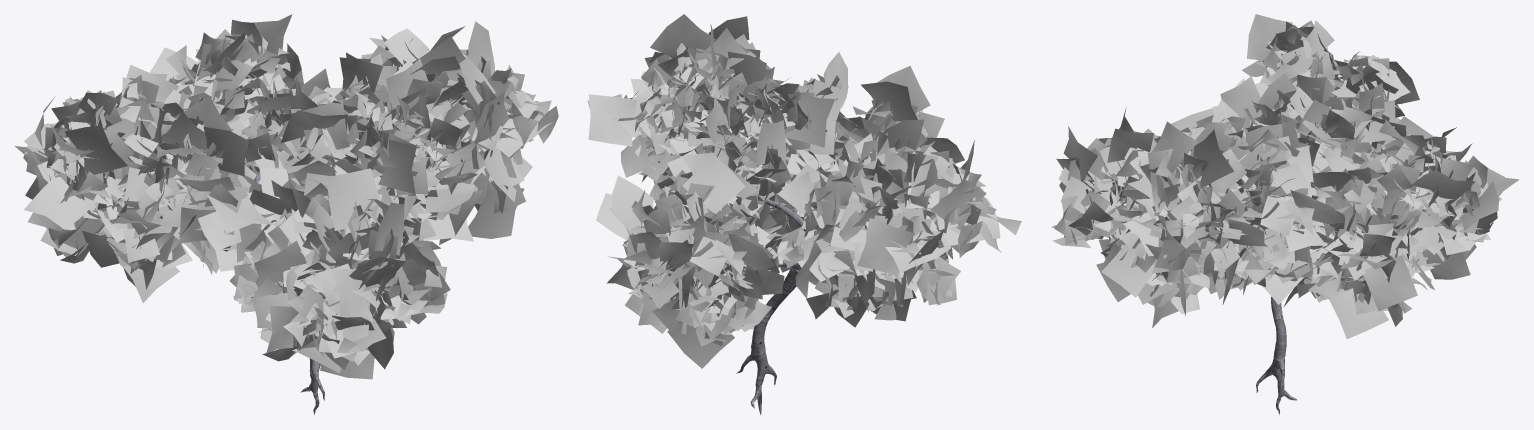
Rendered from Tree11.fbx.
3 renders of one model, left to right at view 1: azimuth 30°, elevation 25°; view 2: azimuth 150°, elevation 25°; view 3: azimuth 270°, elevation 25°, orthographic. The views are drawn at different scales.
Visible parts, largest first — view 1: tree11|branch11-2|Dupli|138, tree11|branch11-2|Dupli|182, tree11|branch11-2|Dupli|26, tree11|branch11-2|Dupli|220, tree11|branch11-2|Dupli|, tree11|branch11-2|Dupli|212, tree11|branch11-1|Dupli|219, tree11|branch11-2|Dupli|232, tree11|branch11-1|Dupli|31, tree11|branch11-2|Dupli|240, tree11|branch11-2|Dupli|28, tree11|branch11-1|Dupli|241 (+70 smaller); view 2: tree11|branch11-2|Dupli|24, tree11|branch11-2|Dupli|210, tree11|branch11-2|Dupli|284, tree11|branch11-2|Dupli|102, tree11|branch11-1|Dupli|235, tree11|branch11-2|Dupli|252, tree11|branch11-2|Dupli|286, tree11, tree11|branch11-2|Dupli|58, tree11|branch11-2|Dupli|140, tree11|branch11-2|Dupli|232, tree11|branch11-2|Dupli|26 (+69 smaller); view 3: tree11|branch11-2|Dupli|210, tree11|branch11-2|Dupli|140, tree11|branch11-2|Dupli|212, tree11|branch11-2|Dupli|256, tree11|branch11-2|Dupli|254, tree11|branch11-2|Dupli|36, tree11|branch11-2|Dupli|220, tree11|branch11-2|Dupli|286, tree11|branch11-2|Dupli|182, tree11|branch11-2|Dupli|28, tree11|branch11-1|Dupli|219, tree11|branch11-2|Dupli|88 (+59 smaller).
Part boxes in pixels (x1,y1,x2,y2): tree11|branch11-2|Dupli|138: (161,177,273,250); tree11|branch11-2|Dupli|182: (468,146,532,238); tree11|branch11-2|Dupli|26: (326,168,383,265); tree11|branch11-2|Dupli|220: (347,202,405,292); tree11|branch11-2|Dupli|: (254,229,338,306); tree11|branch11-2|Dupli|212: (447,57,508,150); tree11|branch11-1|Dupli|219: (385,242,450,315); tree11|branch11-2|Dupli|232: (46,124,134,177); tree11|branch11-1|Dupli|31: (317,298,386,361); tree11|branch11-2|Dupli|240: (24,173,113,231); tree11|branch11-2|Dupli|28: (367,129,428,196); tree11|branch11-1|Dupli|241: (106,152,173,234); tree11|branch11-2|Dupli|24: (857,211,951,285); tree11|branch11-2|Dupli|210: (587,91,648,157); tree11|branch11-2|Dupli|284: (665,153,745,242); tree11|branch11-2|Dupli|102: (689,231,775,276); tree11|branch11-1|Dupli|235: (903,146,960,222); tree11|branch11-2|Dupli|252: (795,224,856,298); tree11|branch11-2|Dupli|286: (611,175,683,238); tree11: (736,199,938,415); tree11|branch11-2|Dupli|58: (775,93,835,157); tree11|branch11-2|Dupli|140: (650,14,715,79); tree11|branch11-2|Dupli|232: (930,140,986,233); tree11|branch11-2|Dupli|26: (852,81,927,153); tree11|branch11-2|Dupli|210: (1242,185,1344,235); tree11|branch11-2|Dupli|140: (1180,129,1246,198); tree11|branch11-2|Dupli|212: (1140,121,1197,212); tree11|branch11-2|Dupli|256: (1346,222,1417,310); tree11|branch11-2|Dupli|254: (1316,268,1388,338); tree11|branch11-2|Dupli|36: (1324,223,1395,280); tree11|branch11-2|Dupli|220: (1056,126,1116,195); tree11|branch11-2|Dupli|286: (1408,158,1475,213); tree11|branch11-2|Dupli|182: (1155,236,1209,315); tree11|branch11-2|Dupli|28: (1107,128,1160,179); tree11|branch11-1|Dupli|219: (1052,176,1115,248); tree11|branch11-2|Dupli|88: (1101,227,1154,297).
Bounding box in the file's own units: 2563 × 2037 × 2556.
